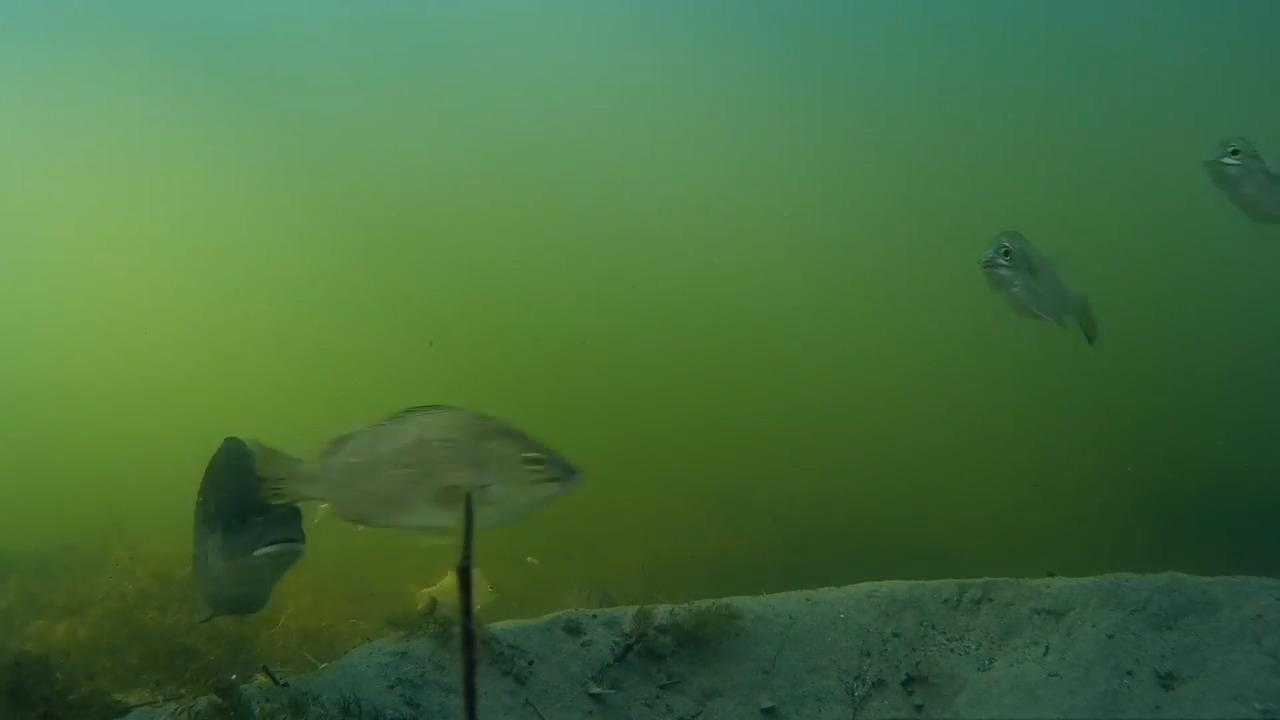Tilapia: (263, 398, 592, 536), (159, 408, 302, 610), (973, 222, 1106, 362), (1183, 134, 1280, 238)
